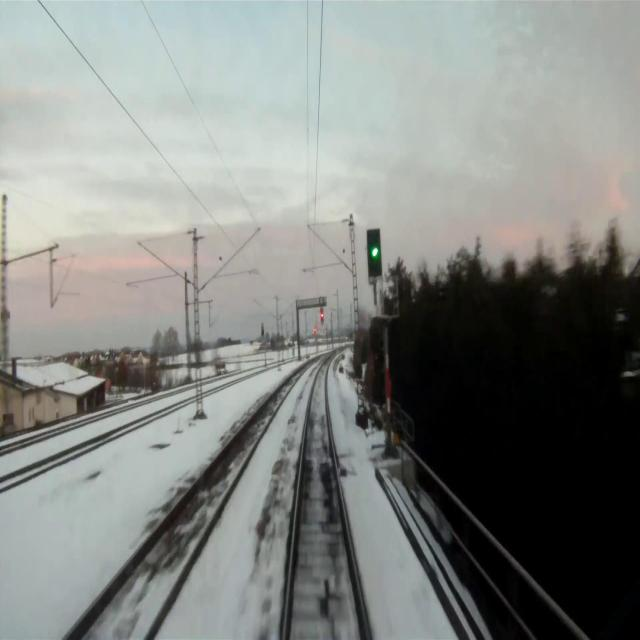rail-track: (70, 372, 299, 639), (287, 361, 365, 639)
